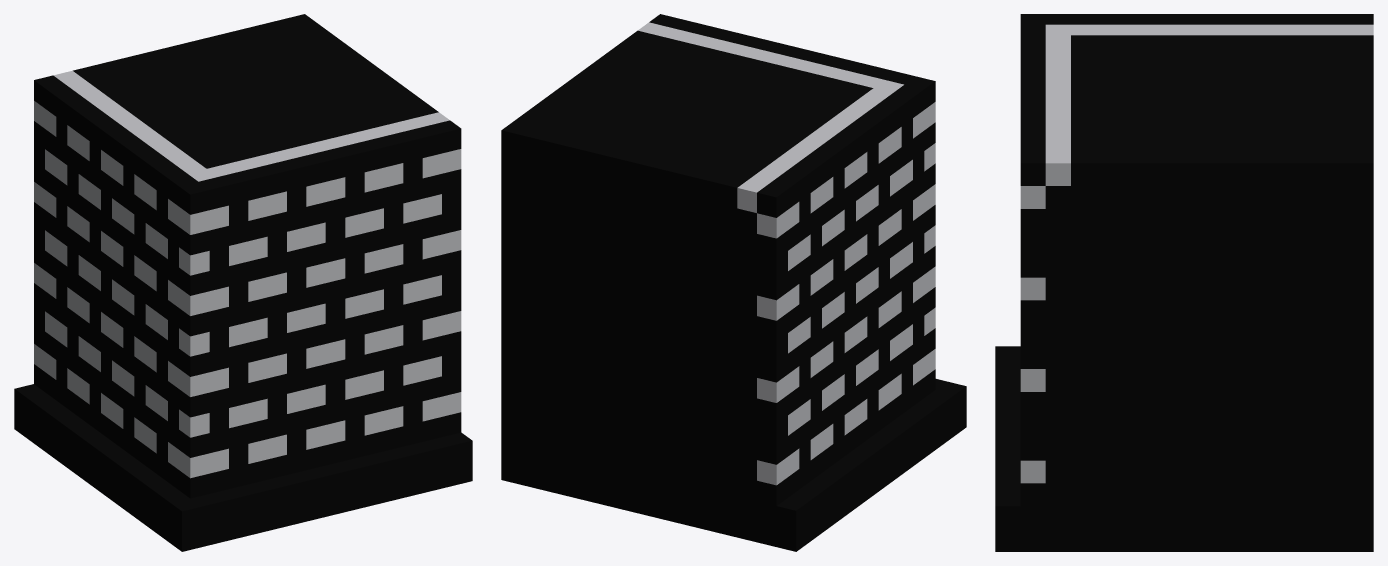
Rendered from dungeon_d_a_outer_wall_corner_b.obj.
The picture shows the model from 3 angles, left to right: view 1: azimuth 30°, elevation 25°; view 2: azimuth 150°, elevation 25°; view 3: azimuth 270°, elevation 25°; orthographic projection. The views are drawn at different scales.
Bounding box in the file's own units: 1.5 × 1.7 × 1.5.
Materials: 1 (1 with a texture image).
